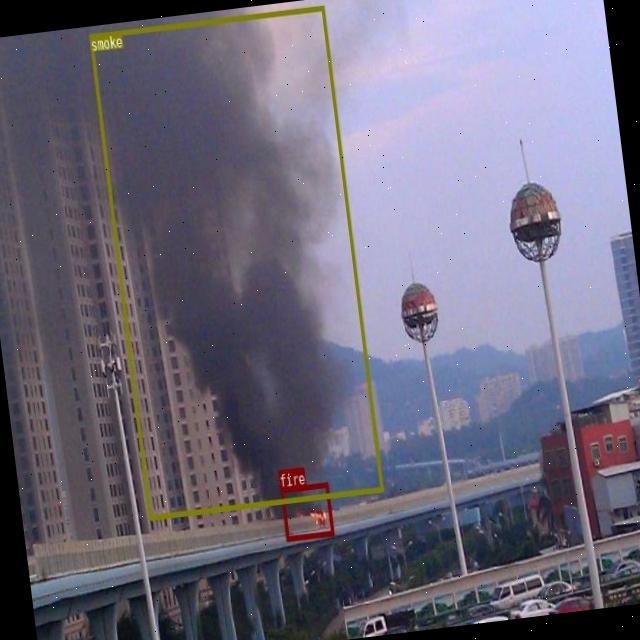fire: (279, 482, 333, 540)
smoke: (89, 4, 383, 518)
